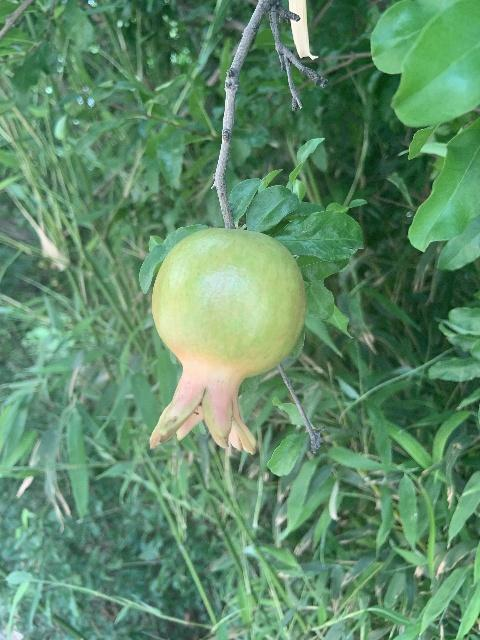mid-growth: (148, 227, 306, 453)
